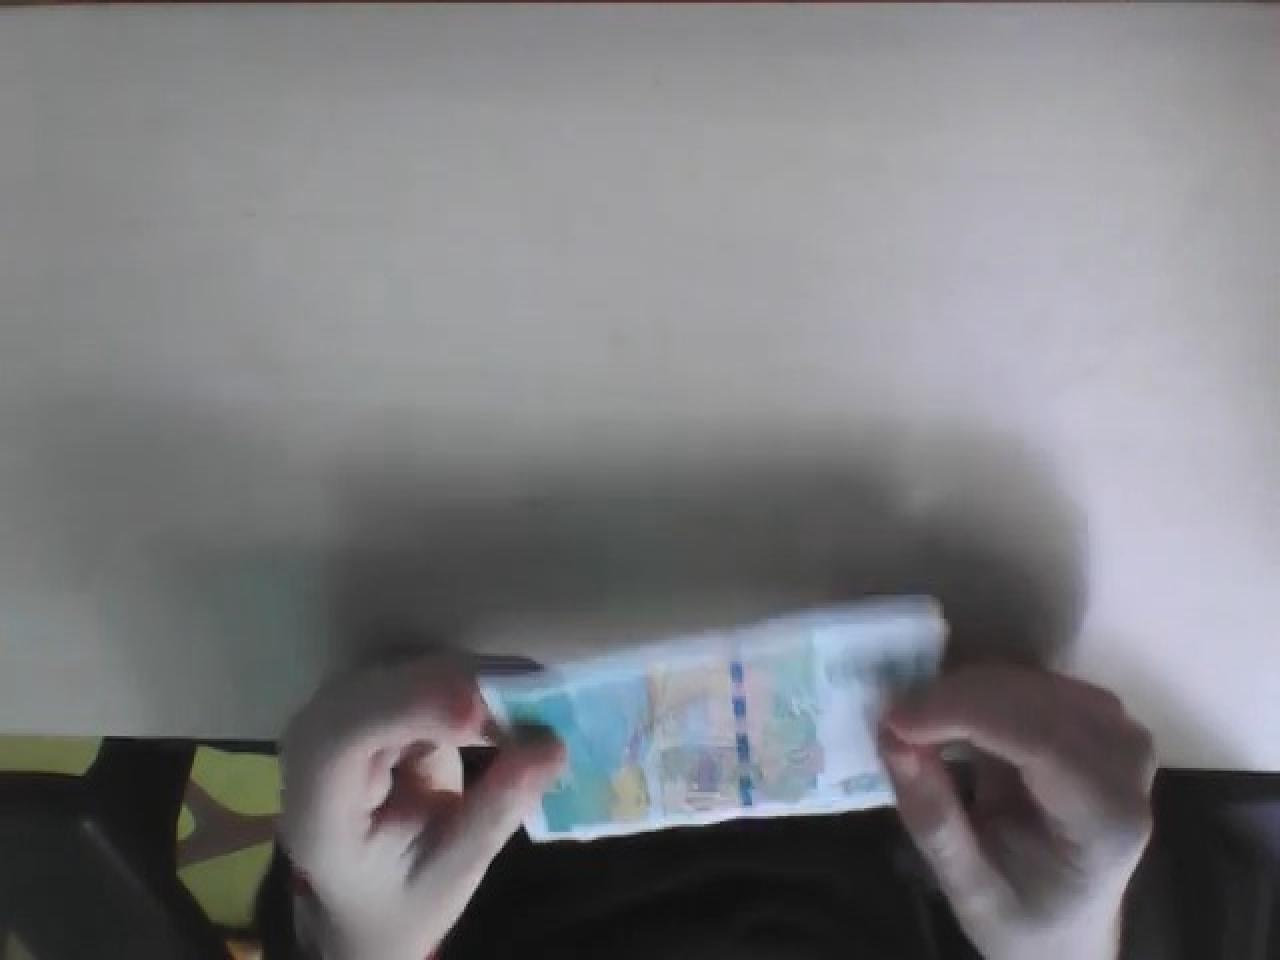100leva: (478, 592, 958, 848)
